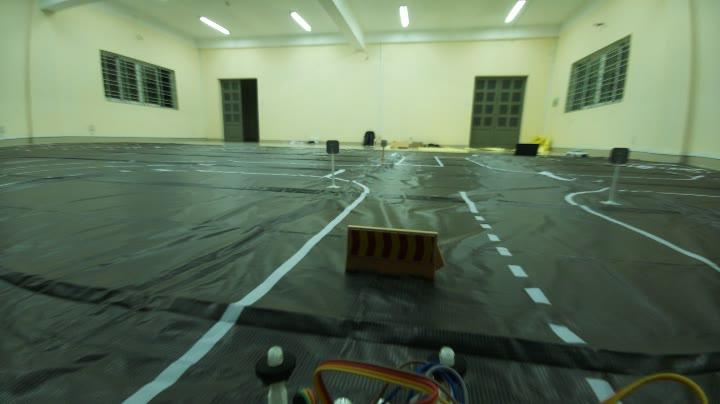roadblock: (335, 220, 450, 288)
